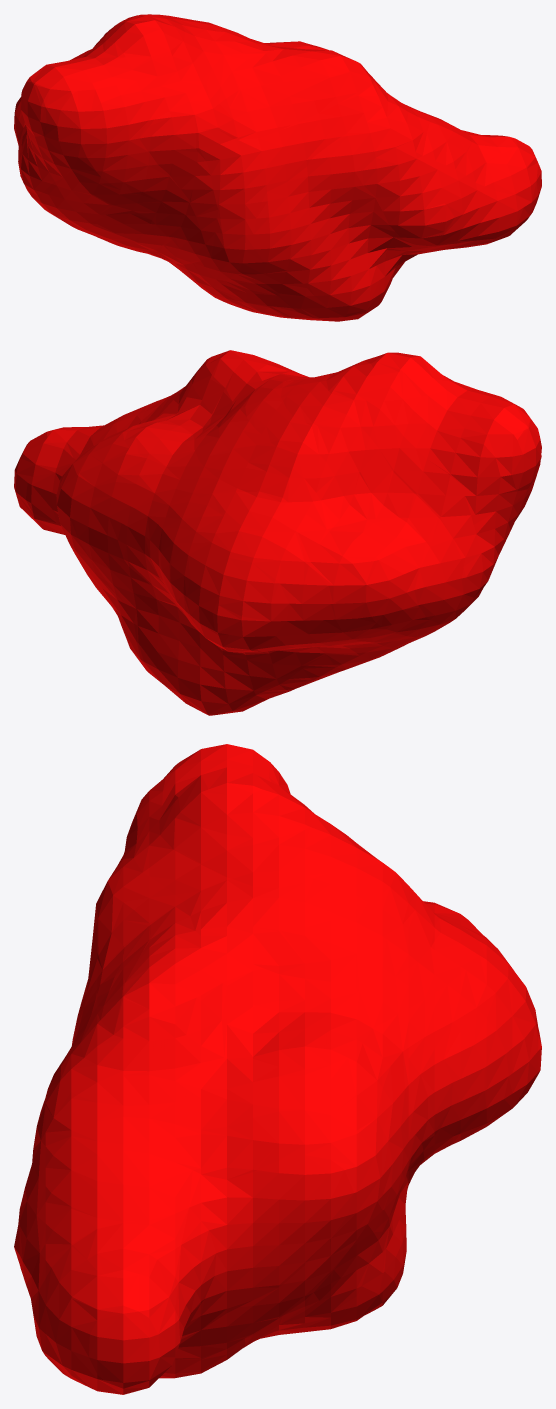
Rendered from hpf_coarse.dae.
3 views of the same model, one above another, from view 1: azimuth 30°, elevation 25°; view 2: azimuth 150°, elevation 25°; view 3: azimuth 270°, elevation 25° (orthographic). The views are drawn at different scales.
Parts seen in each view (by area): view 1: hpf; view 2: hpf; view 3: hpf.
Boxes of the visible parts, left/top/right/bottom form: hpf: left=14, top=14, right=541, bottom=321; hpf: left=14, top=350, right=541, bottom=715; hpf: left=14, top=744, right=541, bottom=1394.
Size of the model in its own units: 53.92 by 33.94 by 34.67.
